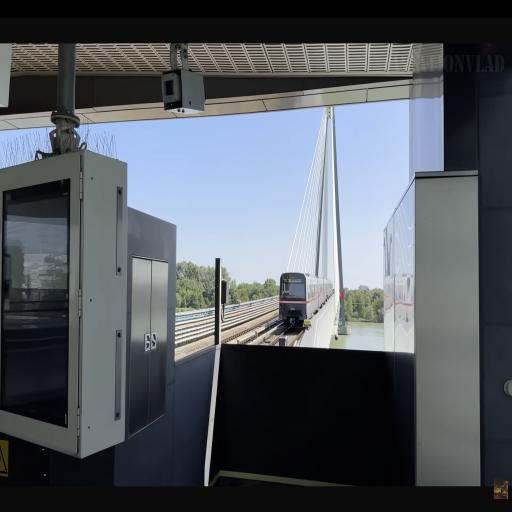X-Wagen: (279, 271, 333, 327)
